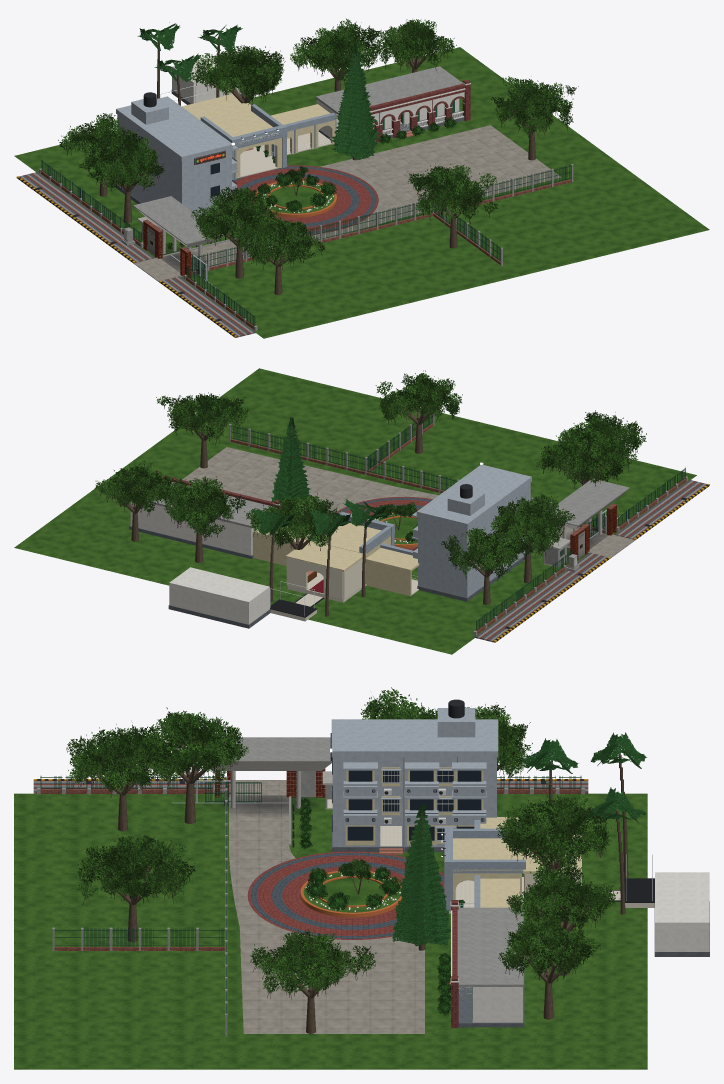
File: khulna_circuit_house.glb
3 views of the same model, one above another, from view 1: azimuth 30°, elevation 25°; view 2: azimuth 150°, elevation 25°; view 3: azimuth 270°, elevation 25° (orthographic). The views are drawn at different scales.
Visible parts, largest first — view 1: Compound_Main_Lawn, FoliageSway_ShadeTree (×9), Left_To_Center_Concrete_Driveway, Annex_3Story_Modern_Building, Colonial_RedBrick_Historic_Wing, Circular_Forecourt_Patterned_Paving, FoliageSway_NorfolkPine, Driveway_Right_Protection_Fence_Main, Compound_Tropical_Trees, Footpath_Left_North, Central_Portico_And_Arched_Wings, Portico_Right_Arched_Wing (+13 smaller); view 2: Compound_Main_Lawn, FoliageSway_ShadeTree (×9), Annex_3Story_Modern_Building, Left_To_Center_Concrete_Driveway, Rear_Ceremonial_Courtyard, Colonial_RedBrick_Historic_Wing, Central_CircuitHouse_Lobby_Interior, Compound_Tropical_Trees, Footpath_Left_North, Portico_Left_Arched_Wing, Driveway_Right_Protection_Fence_East, FoliageSway_Palm (×3) (+13 smaller); view 3: Compound_Main_Lawn, FoliageSway_ShadeTree (×9), Annex_3Story_Modern_Building, Left_To_Center_Concrete_Driveway, Colonial_RedBrick_Historic_Wing, Circular_Forecourt_Patterned_Paving, Rear_Ceremonial_Courtyard, FoliageSway_NorfolkPine, Compound_Tropical_Trees, Central_Portico_And_Arched_Wings, Gate_Cantilevered_Canopy, Circular_Garden_Island (+11 smaller).
Part boxes in pixels (x1=…): Compound_Main_Lawn: x1=14, y1=47, x2=709, y2=338; FoliageSway_ShadeTree (×9): x1=58, y1=18, x2=578, y2=269; Left_To_Center_Concrete_Driveway: x1=161, y1=125, x2=561, y2=272; Annex_3Story_Modern_Building: x1=116, y1=92, x2=238, y2=215; Colonial_RedBrick_Historic_Wing: x1=316, y1=66, x2=470, y2=144; Circular_Forecourt_Patterned_Paving: x1=232, y1=165, x2=378, y2=234; FoliageSway_NorfolkPine: x1=330, y1=44, x2=380, y2=159; Driveway_Right_Protection_Fence_Main: x1=191, y1=202, x2=434, y2=274; Compound_Tropical_Trees: x1=86, y1=36, x2=552, y2=294; Footpath_Left_North: x1=16, y1=172, x2=154, y2=263; Central_Portico_And_Arched_Wings: x1=200, y1=104, x2=286, y2=179; Portico_Right_Arched_Wing: x1=261, y1=104, x2=335, y2=156; Compound_Main_Lawn: x1=14, y1=368, x2=696, y2=654; FoliageSway_ShadeTree (×9): x1=94, y1=370, x2=646, y2=580; Annex_3Story_Modern_Building: x1=412, y1=462, x2=531, y2=601; Left_To_Center_Concrete_Driveway: x1=182, y1=447, x2=608, y2=549; Rear_Ceremonial_Courtyard: x1=168, y1=567, x2=323, y2=628; Colonial_RedBrick_Historic_Wing: x1=129, y1=470, x2=281, y2=559; Central_CircuitHouse_Lobby_Interior: x1=285, y1=541, x2=366, y2=602; Compound_Tropical_Trees: x1=116, y1=395, x2=613, y2=616; Footpath_Left_North: x1=475, y1=552, x2=610, y2=642; Portico_Left_Arched_Wing: x1=365, y1=543, x2=419, y2=596; Driveway_Right_Protection_Fence_East: x1=228, y1=424, x2=365, y2=474; FoliageSway_Palm (×3): x1=252, y1=499, x2=387, y2=536; Compound_Main_Lawn: x1=14, y1=793, x2=647, y2=1069; FoliageSway_ShadeTree (×9): x1=66, y1=687, x2=617, y2=999; Annex_3Story_Modern_Building: x1=330, y1=699, x2=498, y2=854; Left_To_Center_Concrete_Driveway: x1=229, y1=795, x2=424, y2=1033; Colonial_RedBrick_Historic_Wing: x1=440, y1=900, x2=524, y2=1028; Circular_Forecourt_Patterned_Paving: x1=247, y1=851, x2=446, y2=939; Rear_Ceremonial_Courtyard: x1=600, y1=854, x2=709, y2=956; FoliageSway_NorfolkPine: x1=392, y1=803, x2=450, y2=946; Compound_Tropical_Trees: x1=96, y1=737, x2=628, y2=1034; Central_Portico_And_Arched_Wings: x1=441, y1=828, x2=525, y2=912; Gate_Cantilevered_Canopy: x1=210, y1=737, x2=331, y2=770; Circular_Garden_Island: x1=300, y1=869, x2=401, y2=917.
Size of the model in its own units: 69.06 by 16.66 by 70.3.
51 materials, 34 textured.
